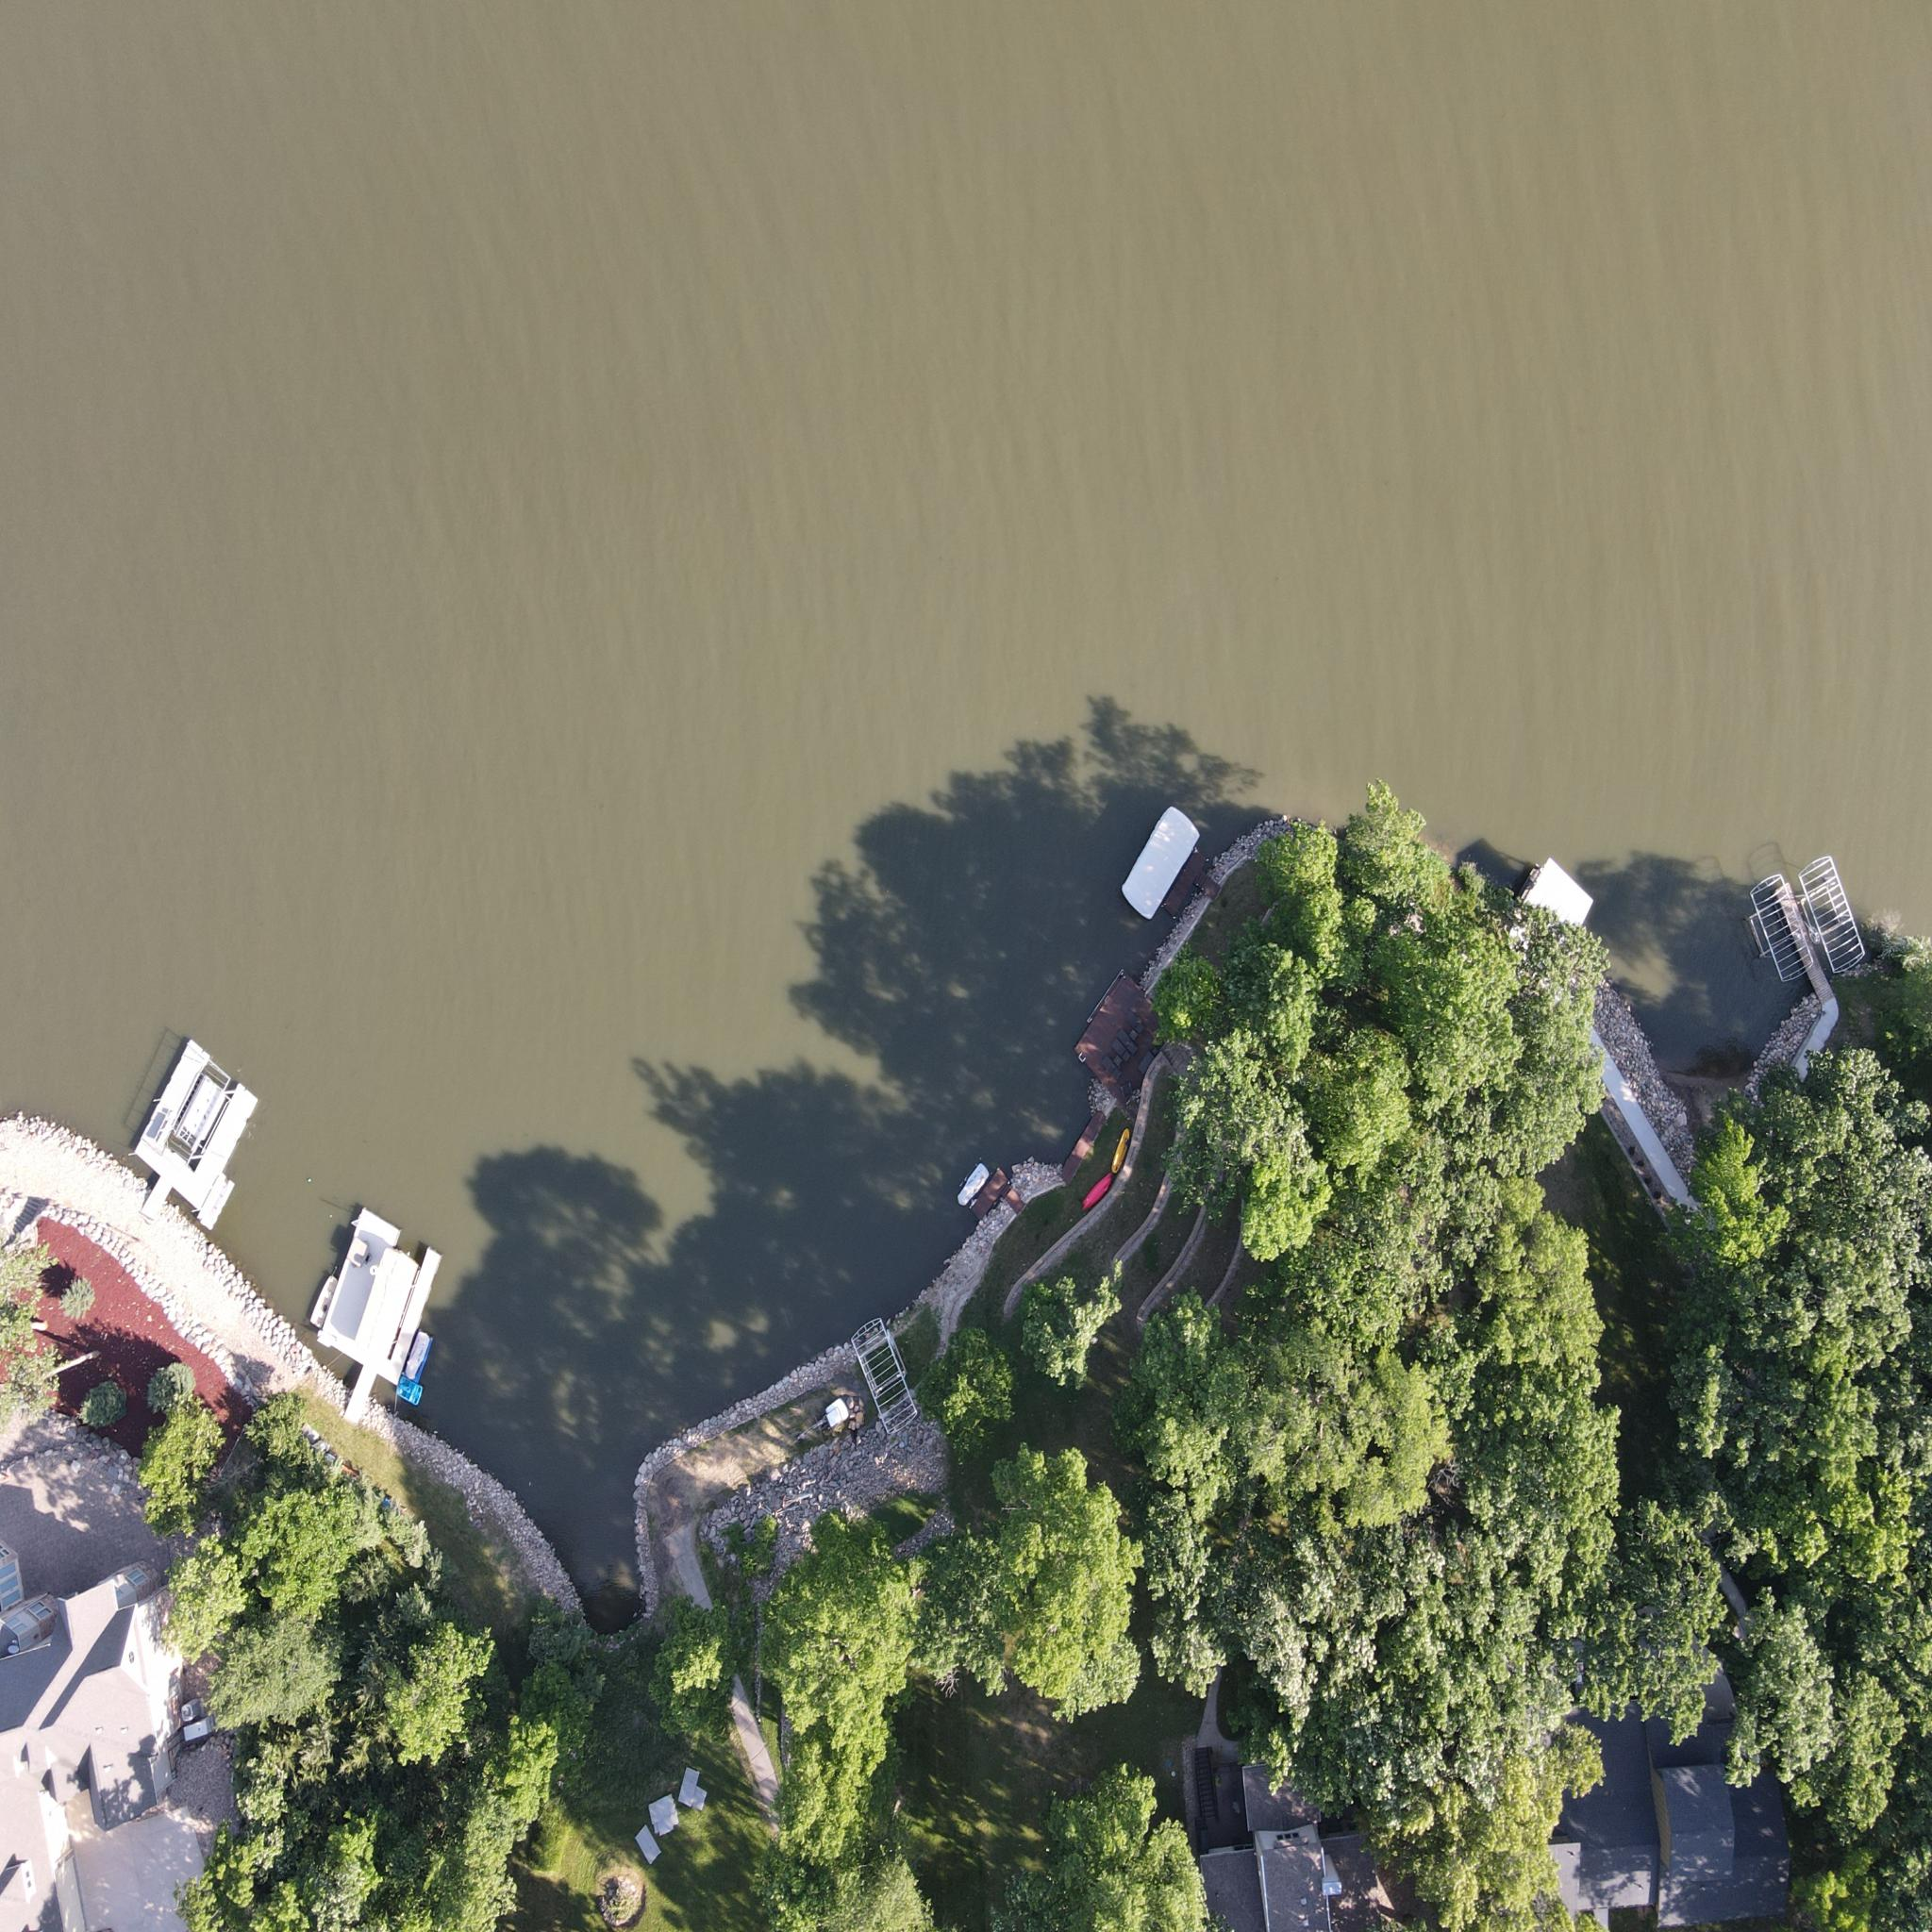dock: (318, 1201, 451, 1437), (133, 1040, 264, 1253), (1493, 853, 1619, 1072), (1072, 968, 1180, 1136), (1764, 870, 1838, 1039)
jetski: (310, 1270, 343, 1330), (405, 1329, 433, 1382), (959, 1157, 984, 1214)
lift: (1116, 805, 1228, 934), (336, 1246, 418, 1369), (1118, 805, 1200, 925), (849, 1316, 924, 1445), (163, 1062, 232, 1157), (1757, 888, 1812, 993), (1794, 860, 1844, 966)
